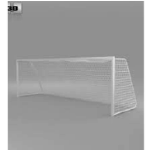goals: (15, 56, 139, 118)
